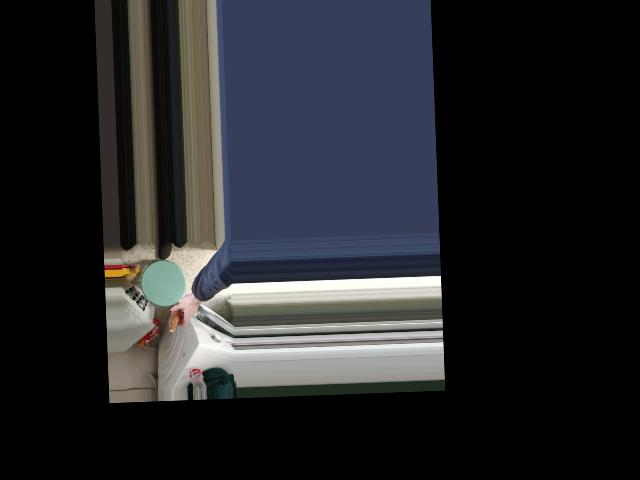sweet_potato: (168, 294, 189, 331)
